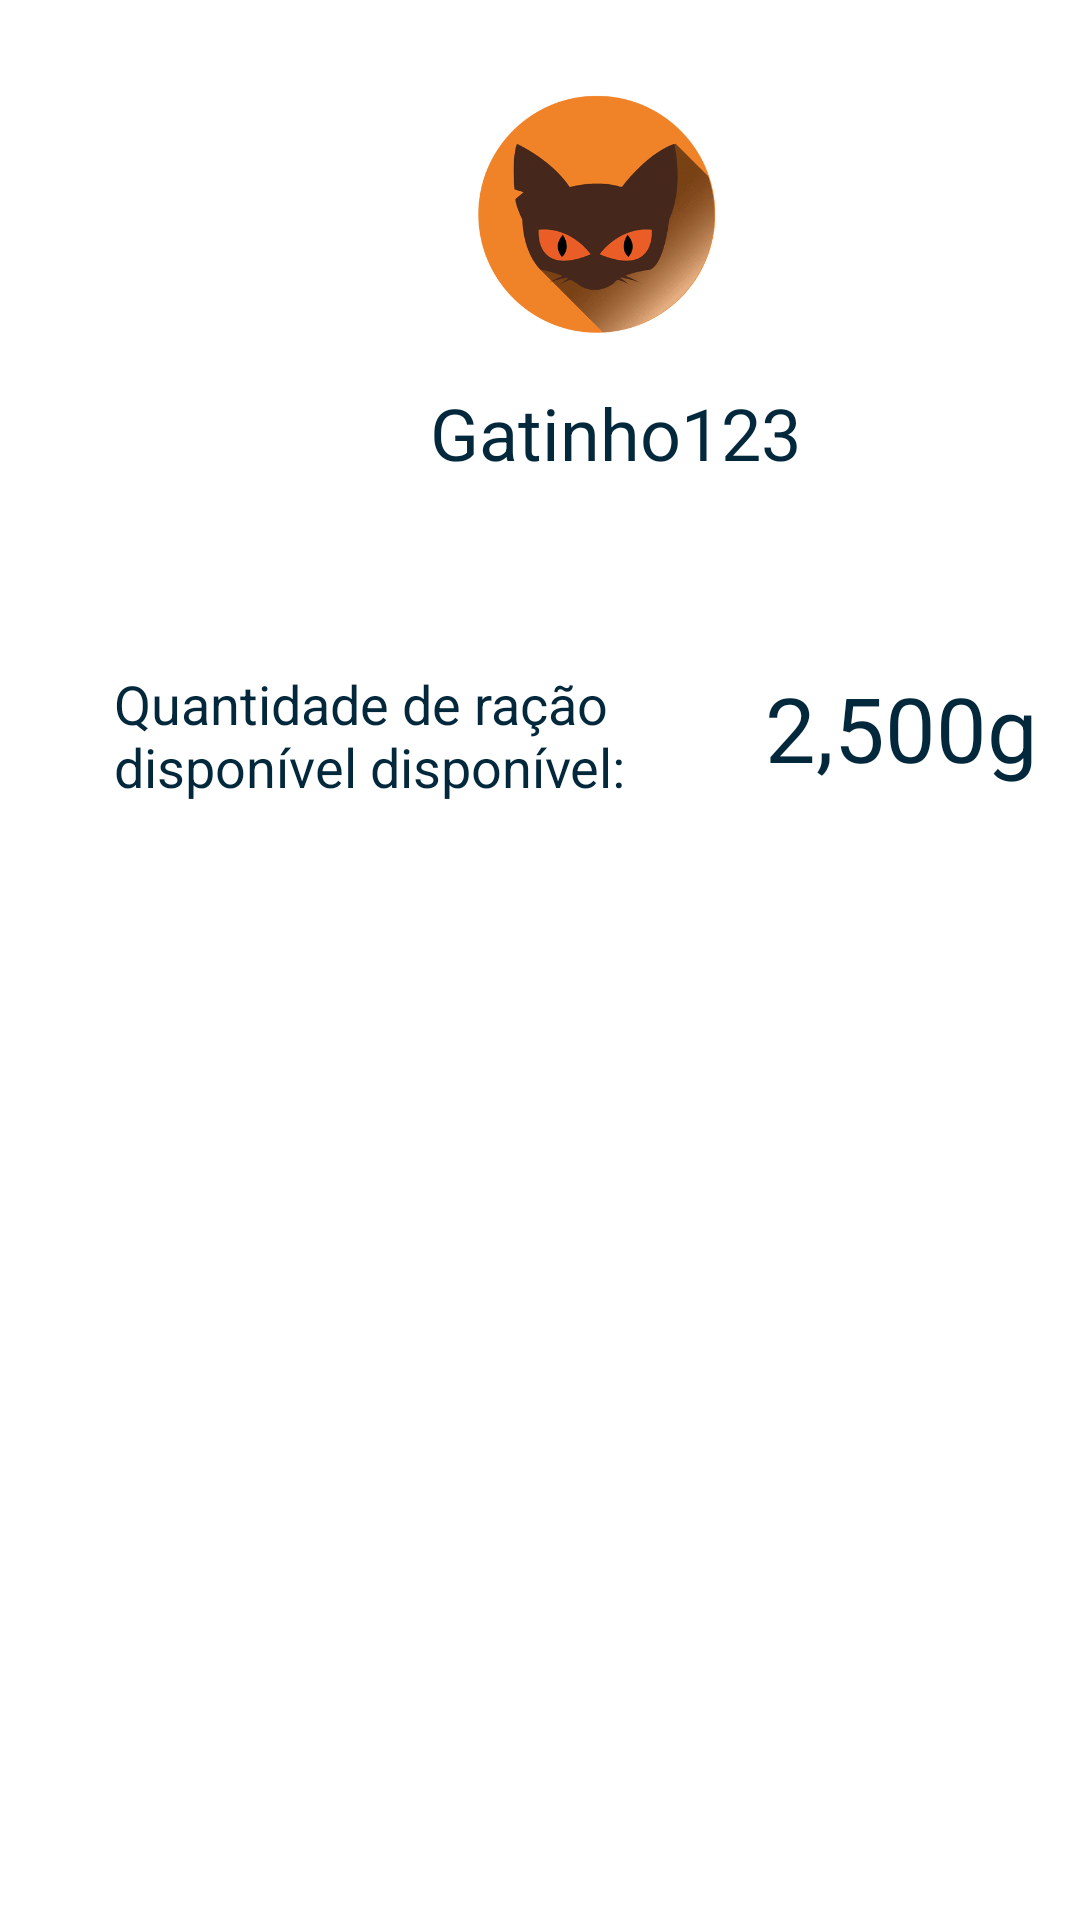

Icons on this 1080px x 1920px Android screen, each with the point to tap as [x,y]:
foto de perfil: [596,214]
